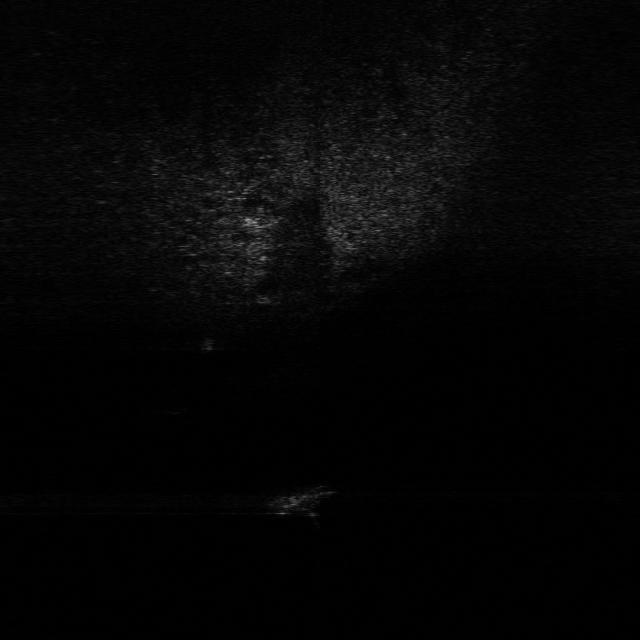circle cage: (257, 472, 338, 524)
cylinder: (194, 334, 222, 358)
